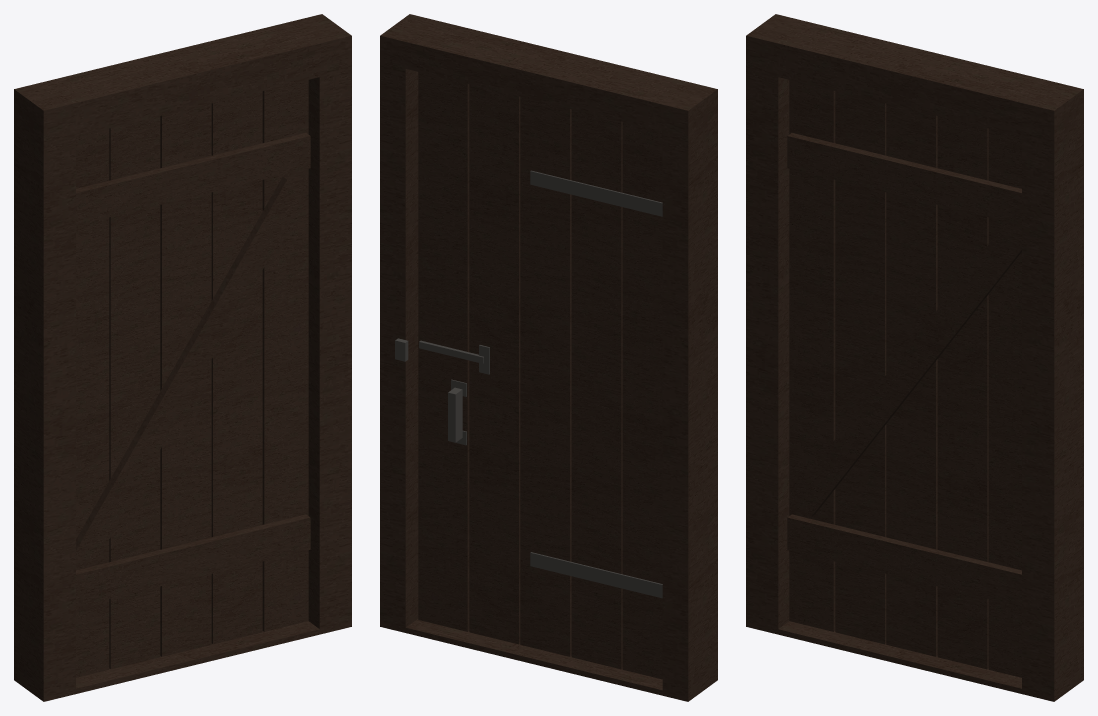
The model's file is door-simple-wood.4a347b77.glb.
3 renders of one model, left to right at view 1: azimuth 30°, elevation 25°; view 2: azimuth 150°, elevation 25°; view 3: azimuth 330°, elevation 25°, orthographic.
Parts seen in each view (by area): view 1: door-leaf-l, door-simple-wood-frame; view 2: door-leaf-l, door-simple-wood-frame; view 3: door-leaf-l, door-simple-wood-frame.
Boxes of the visible parts, bbox=[...] form: door-leaf-l: bbox=[76, 80, 310, 677]; door-simple-wood-frame: bbox=[14, 14, 351, 701]; door-leaf-l: bbox=[418, 72, 662, 679]; door-simple-wood-frame: bbox=[380, 14, 717, 701]; door-leaf-l: bbox=[787, 80, 1021, 677]; door-simple-wood-frame: bbox=[746, 14, 1083, 701].
Bounding box in the file's own units: 1.2 × 2.2 × 0.22.
2 materials, 1 textured.
